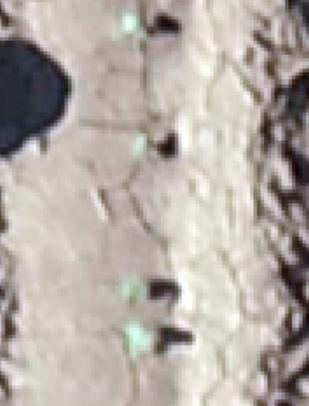cotton: (121, 323, 150, 355), (123, 282, 147, 300), (124, 15, 144, 35), (134, 135, 150, 157)
